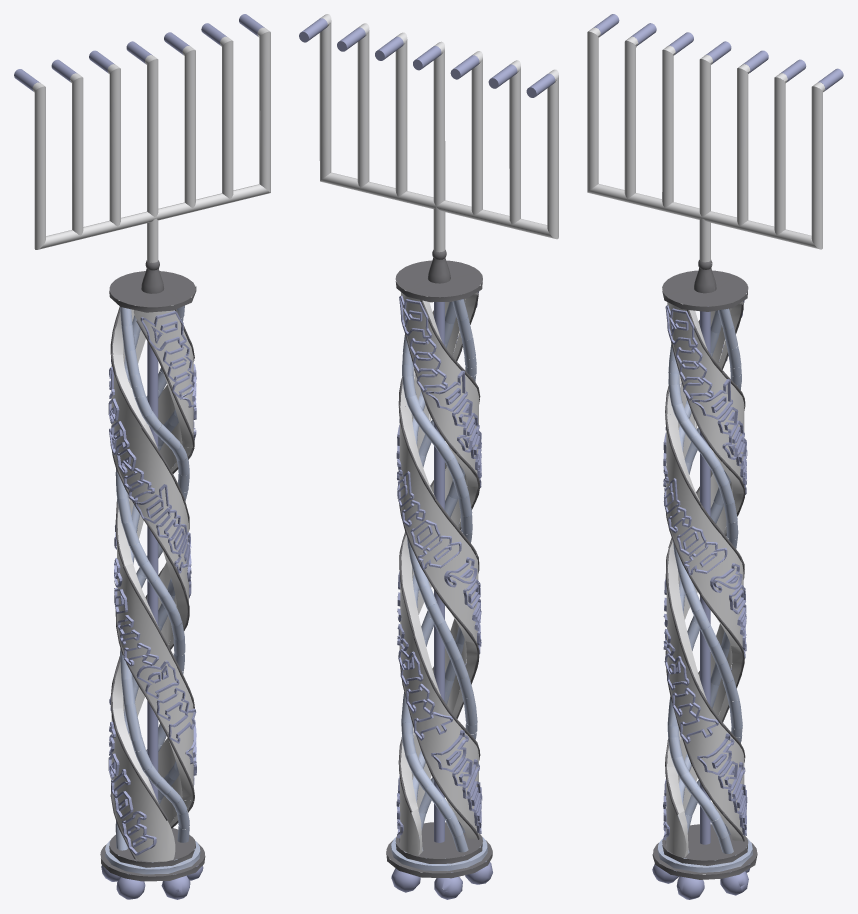
The model's file is osirisrake-light-v125.glb.
The picture shows the model from 3 angles, left to right: view 1: azimuth 30°, elevation 25°; view 2: azimuth 150°, elevation 25°; view 3: azimuth 330°, elevation 25°; orthographic projection.
Visible parts, largest first — view 1: açıkmavi,; view 2: açıkmavi,; view 3: açıkmavi,.
Part boxes in pixels (box(x1,y1,x2,y2)): açıkmavi,: box(14, 14, 270, 899); açıkmavi,: box(299, 14, 558, 899); açıkmavi,: box(587, 14, 843, 899).
Bounding box in the file's own units: 0.4772 × 1.61 × 0.185.
1 material, 1 textured.
